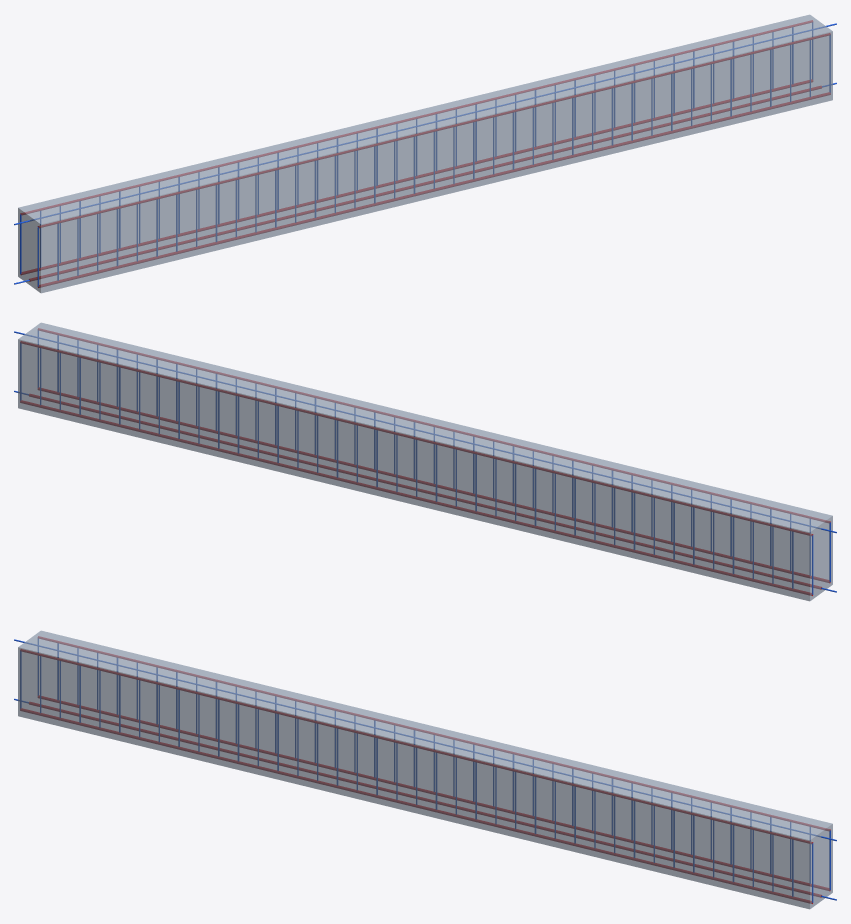
File: mymodel.glb
The picture shows the model from 3 angles, top to bottom: view 1: azimuth 30°, elevation 25°; view 2: azimuth 150°, elevation 25°; view 3: azimuth 330°, elevation 25°; orthographic projection.
Visible parts, largest first — view 1: ConcreteBeam, BottomBar_2, BottomBar_1, BottomBar_0, TopBar_0, TopBar_1; view 2: ConcreteBeam, BottomBar_0, BottomBar_1, BottomBar_2, TopBar_1, TopBar_0; view 3: ConcreteBeam, BottomBar_2, BottomBar_1, BottomBar_0, TopBar_0, TopBar_1.
Boxes of the visible parts, <box> form: ConcreteBeam: <box>18,14,832,293</box>; BottomBar_2: <box>38,92,830,287</box>; BottomBar_1: <box>29,86,821,281</box>; BottomBar_0: <box>20,79,812,275</box>; TopBar_0: <box>20,20,812,214</box>; TopBar_1: <box>37,33,830,227</box>; ConcreteBeam: <box>18,322,832,601</box>; BottomBar_0: <box>20,400,812,595</box>; BottomBar_1: <box>29,394,821,589</box>; BottomBar_2: <box>38,387,830,583</box>; TopBar_1: <box>38,328,830,522</box>; TopBar_0: <box>20,341,813,535</box>; ConcreteBeam: <box>18,630,832,909</box>; BottomBar_2: <box>20,708,812,903</box>; BottomBar_1: <box>29,702,821,897</box>; BottomBar_0: <box>38,695,830,891</box>; TopBar_0: <box>38,636,830,830</box>; TopBar_1: <box>20,649,813,843</box>.
Size of the model in its own units: 6.23 by 0.5 by 0.3.
